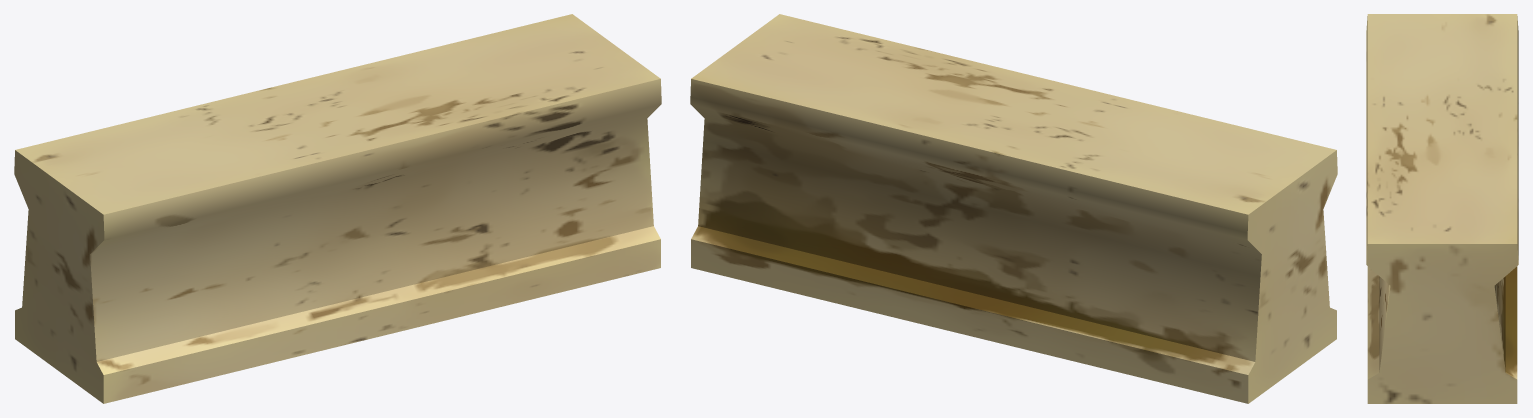
File: Rome_Village_Props_25.FBX
3 renders of one model, left to right at view 1: azimuth 30°, elevation 25°; view 2: azimuth 150°, elevation 25°; view 3: azimuth 270°, elevation 25°, orthographic. The views are drawn at different scales.
Parts seen in each view (by area): view 1: Rome_Village_Props_25; view 2: Rome_Village_Props_25; view 3: Rome_Village_Props_25.
Boxes of the visible parts, x1=… form: Rome_Village_Props_25: x1=14, y1=14, x2=661, y2=403; Rome_Village_Props_25: x1=690, y1=14, x2=1337, y2=403; Rome_Village_Props_25: x1=1366, y1=14, x2=1518, y2=403.
Size of the model in its own units: 330 by 107 by 92.54.
